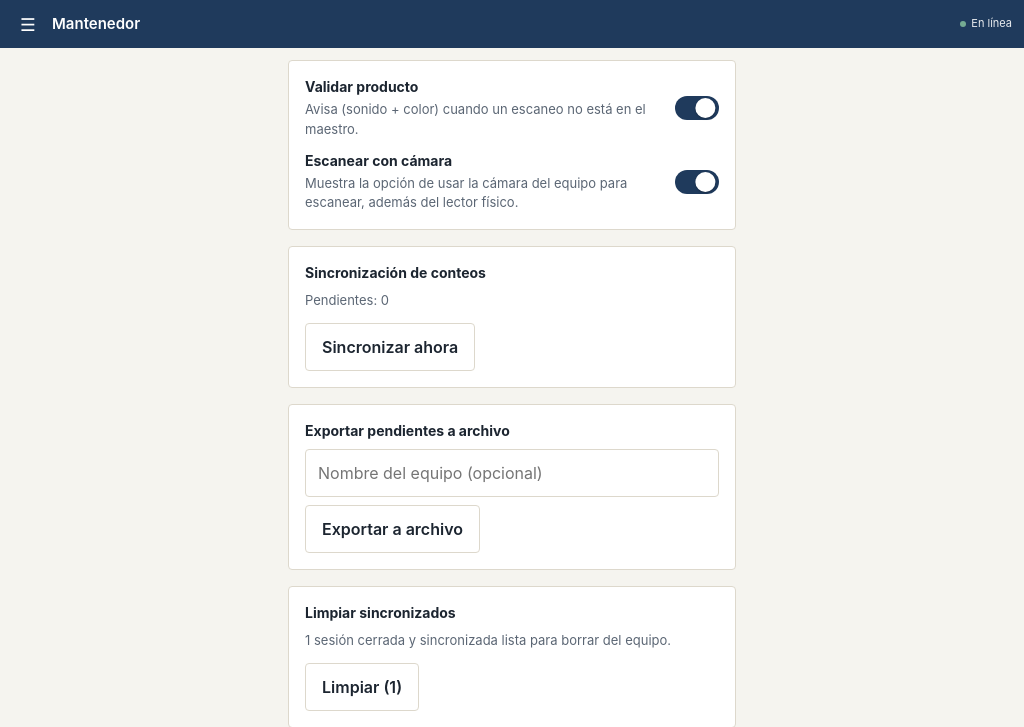
it: MantenedorPage › "Limpiar" borra las sesiones cerradas y sincronizadas con confirmacion
(page scrolled)
Click the button "Limpiar (1)": point(362, 687) [305,663,419,711]
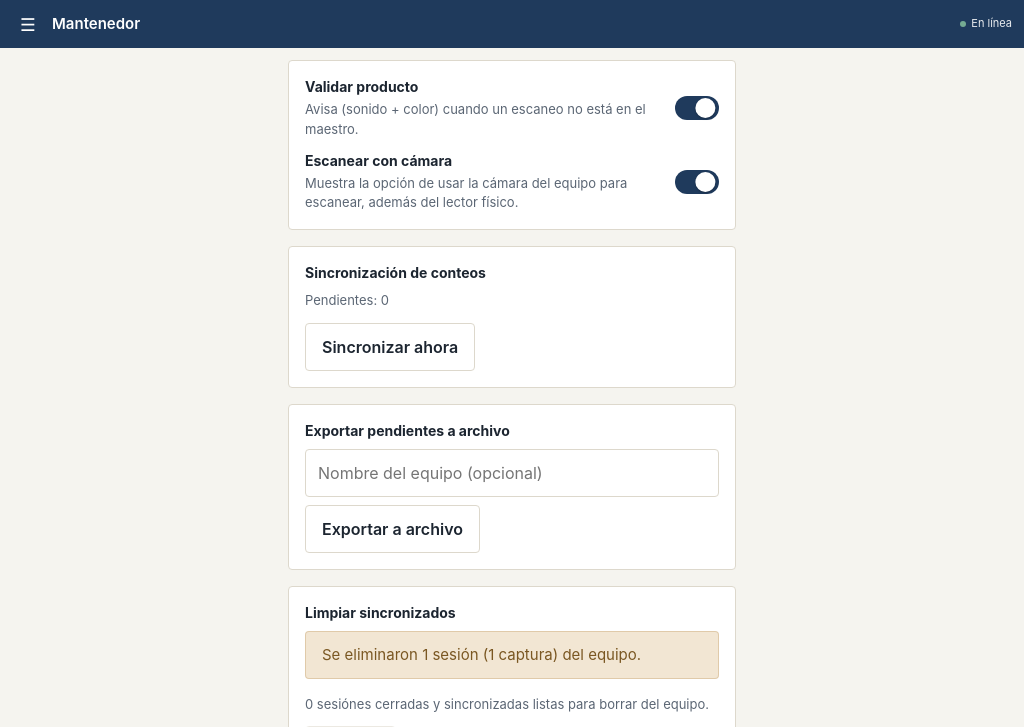
Result: the text "Se eliminaron 1 sesión (1 captura) del equipo." is shown at [305,631,719,679]
